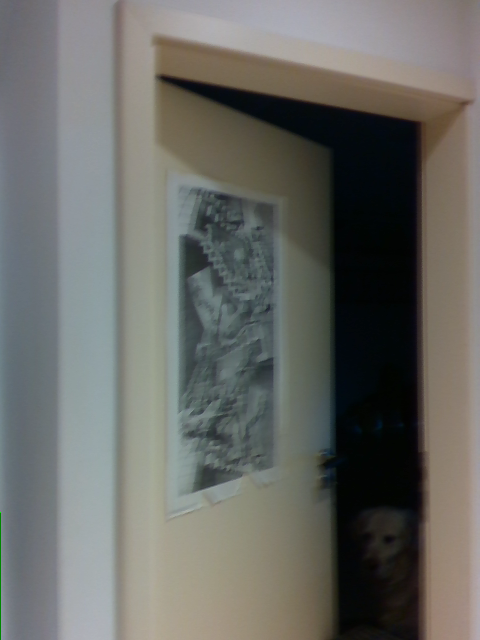semi: (117, 1, 479, 639)
